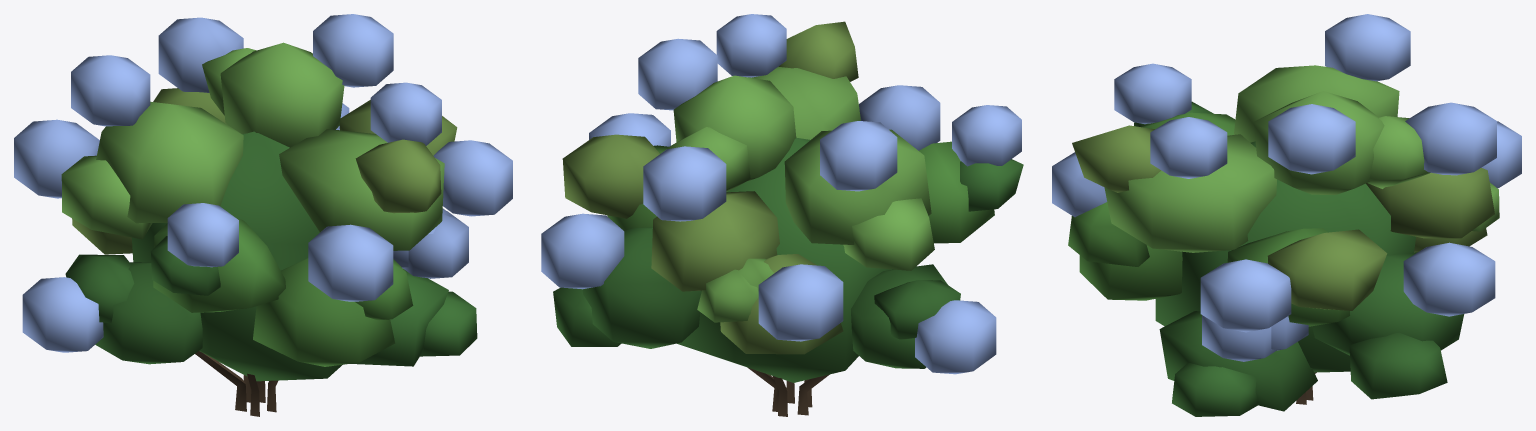
The model's file is hydrangea.far.glb.
The picture shows the model from 3 angles, left to right: view 1: azimuth 30°, elevation 25°; view 2: azimuth 150°, elevation 25°; view 3: azimuth 270°, elevation 25°; orthographic projection. The views are drawn at different scales.
Visible parts, largest first — view 1: hydrangea; view 2: hydrangea; view 3: hydrangea.
Boxes of the visible parts, <box> form: hydrangea: <box>14,14,512,416</box>; hydrangea: <box>541,14,1023,416</box>; hydrangea: <box>1052,14,1521,416</box>.
Size of the model in its own units: 1.2 by 0.957 by 1.18.
